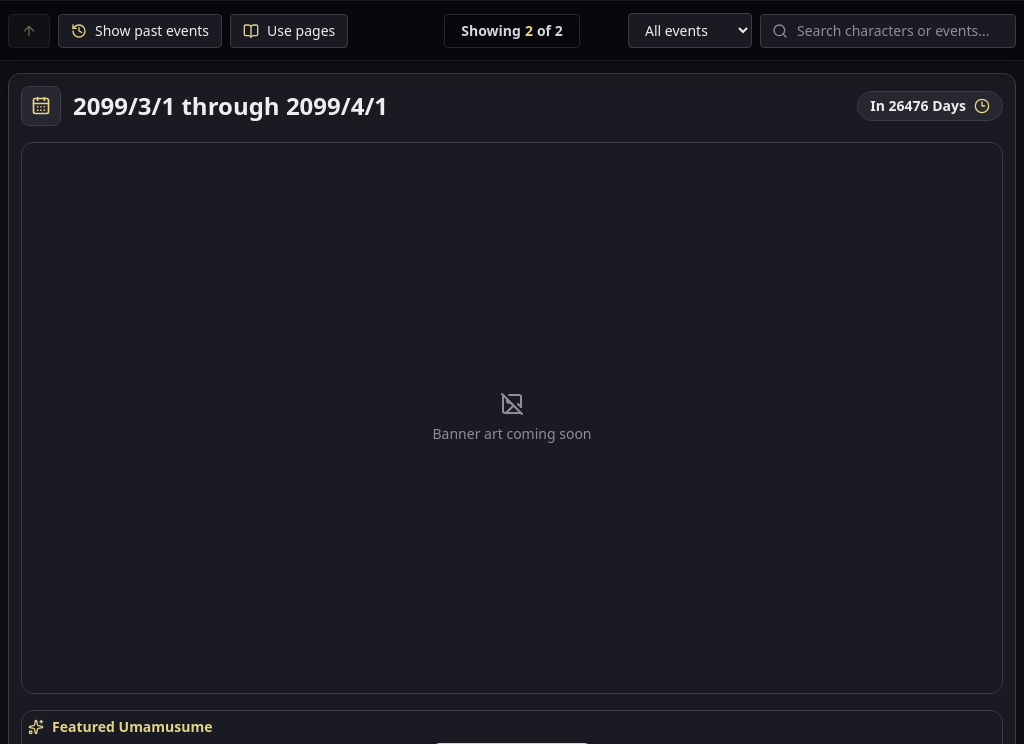
Timeline category filter › splits markers past from future on their start instant
Select "Scenarios" in the dropdown named "filter events" at (690, 30), box [628,13,752,48]
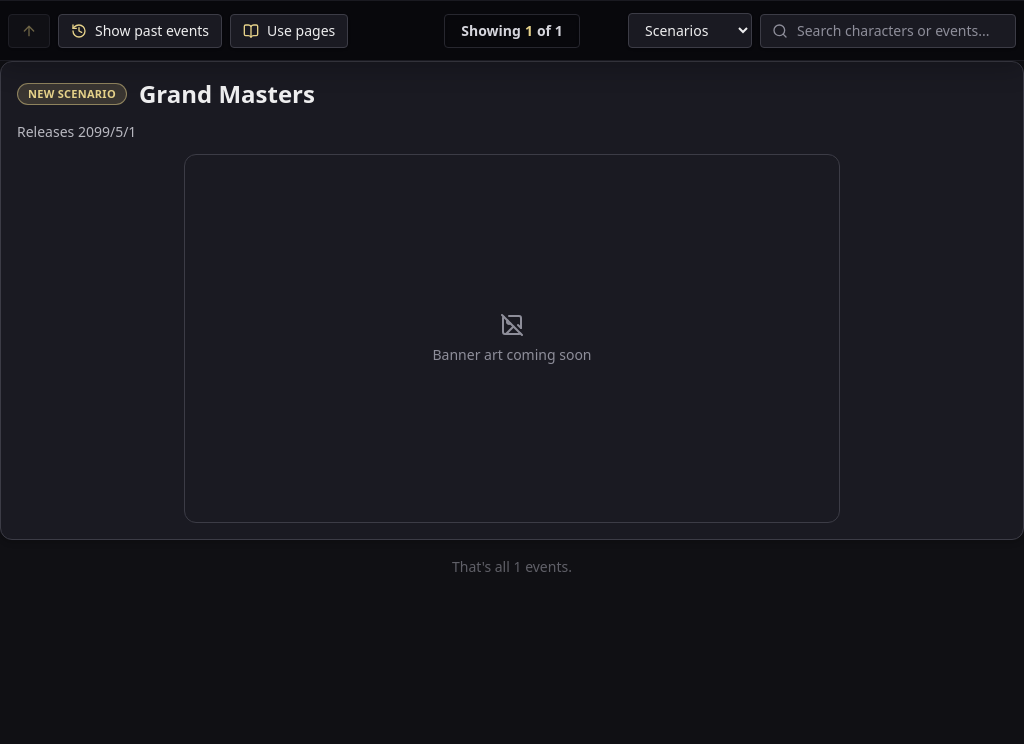
Expected: the heading "Grand Masters" is shown, [139,78,315,110]
Expected: the text "Legacy Scenario" is not shown
Click the button "Show past events" at (140, 30), box [58,14,222,48]
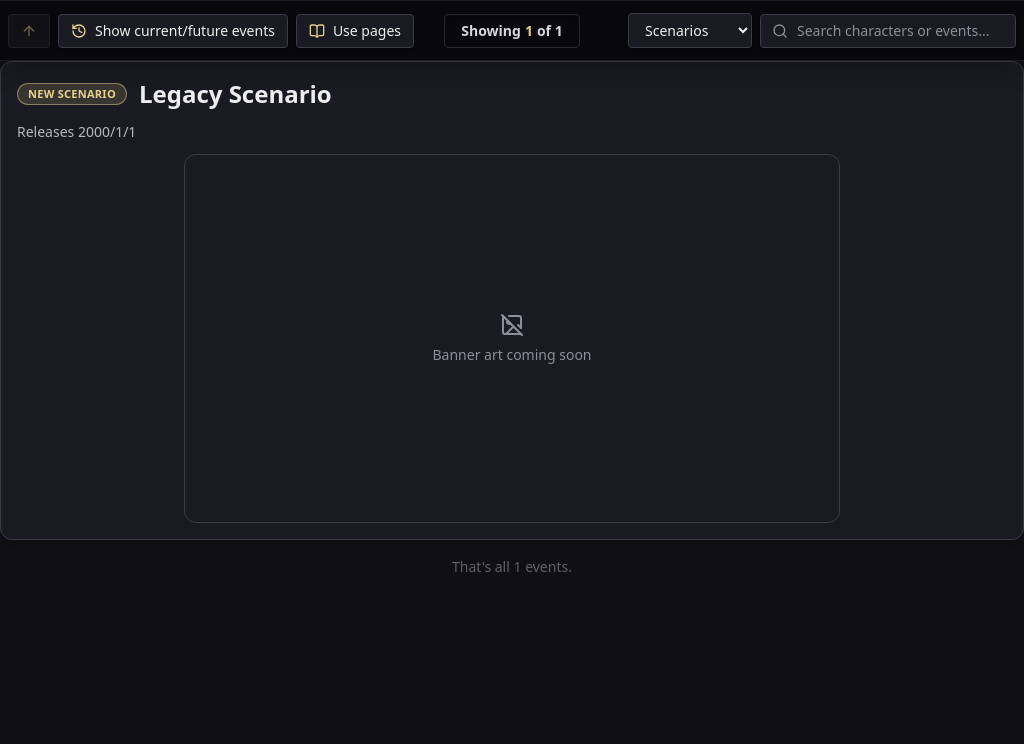
Now the heading "Legacy Scenario" is shown, box [139,78,332,110]
Now the heading "Grand Masters" is gone
